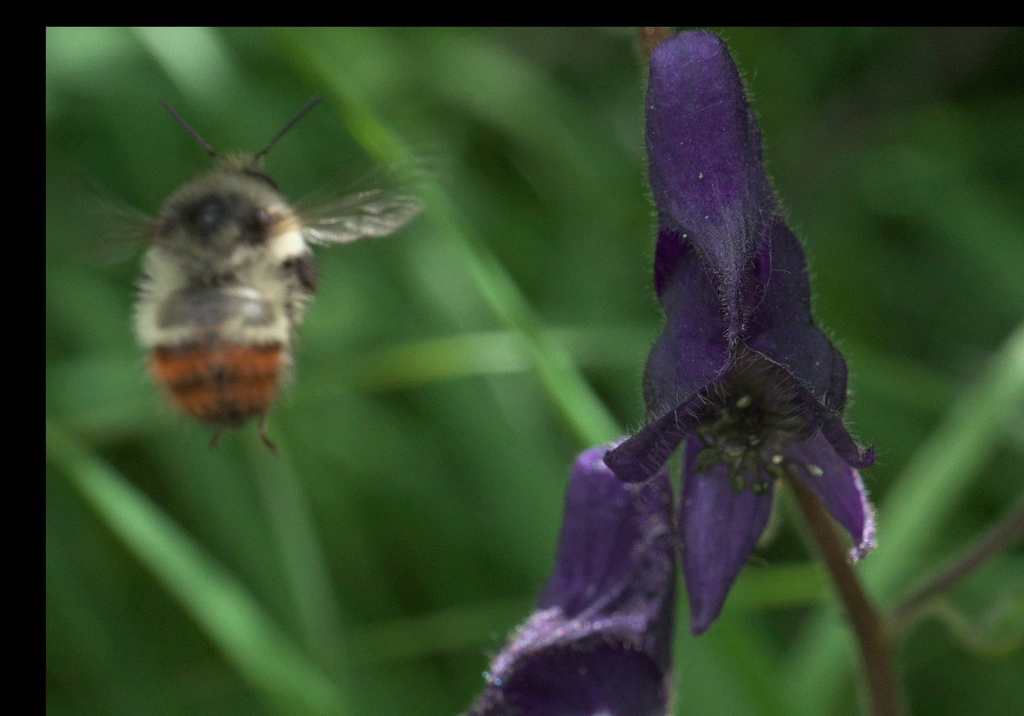bumblebee: (44, 92, 467, 457)
